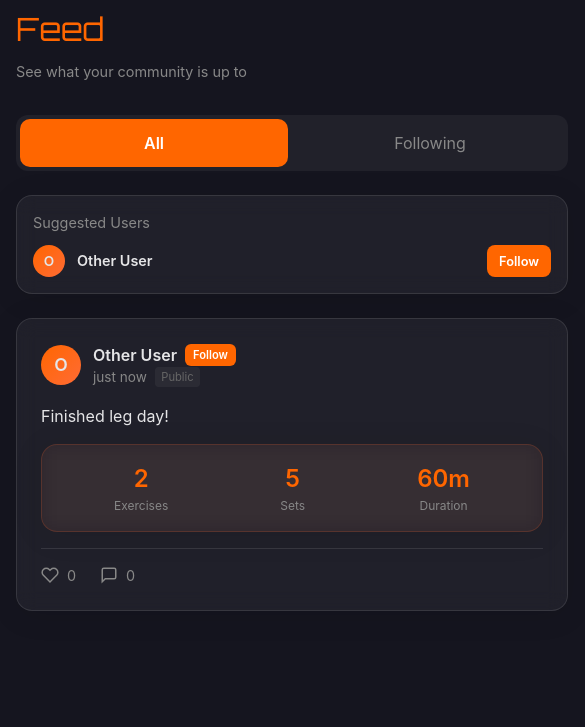
Test: FeedPage › does not submit empty comment
Expected: the text "Finished leg day!" is shown, [41,406,169,426]
Click the button named "Toggle comments": (118, 575) [100,565,135,586]
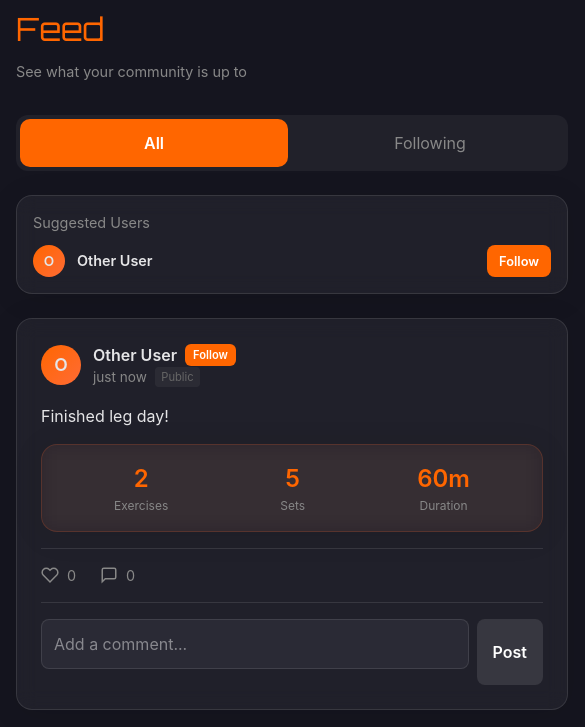
Expected: the button "Post" is disabled, [477,619,543,685]
